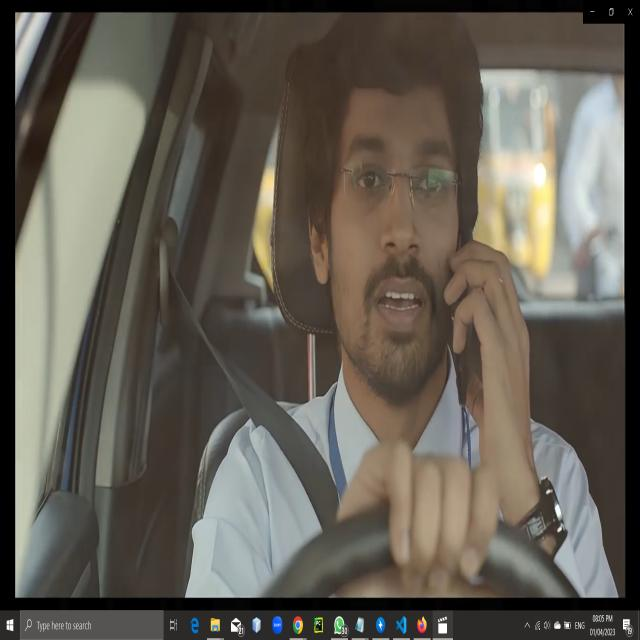using_phone: (328, 175, 533, 428)
